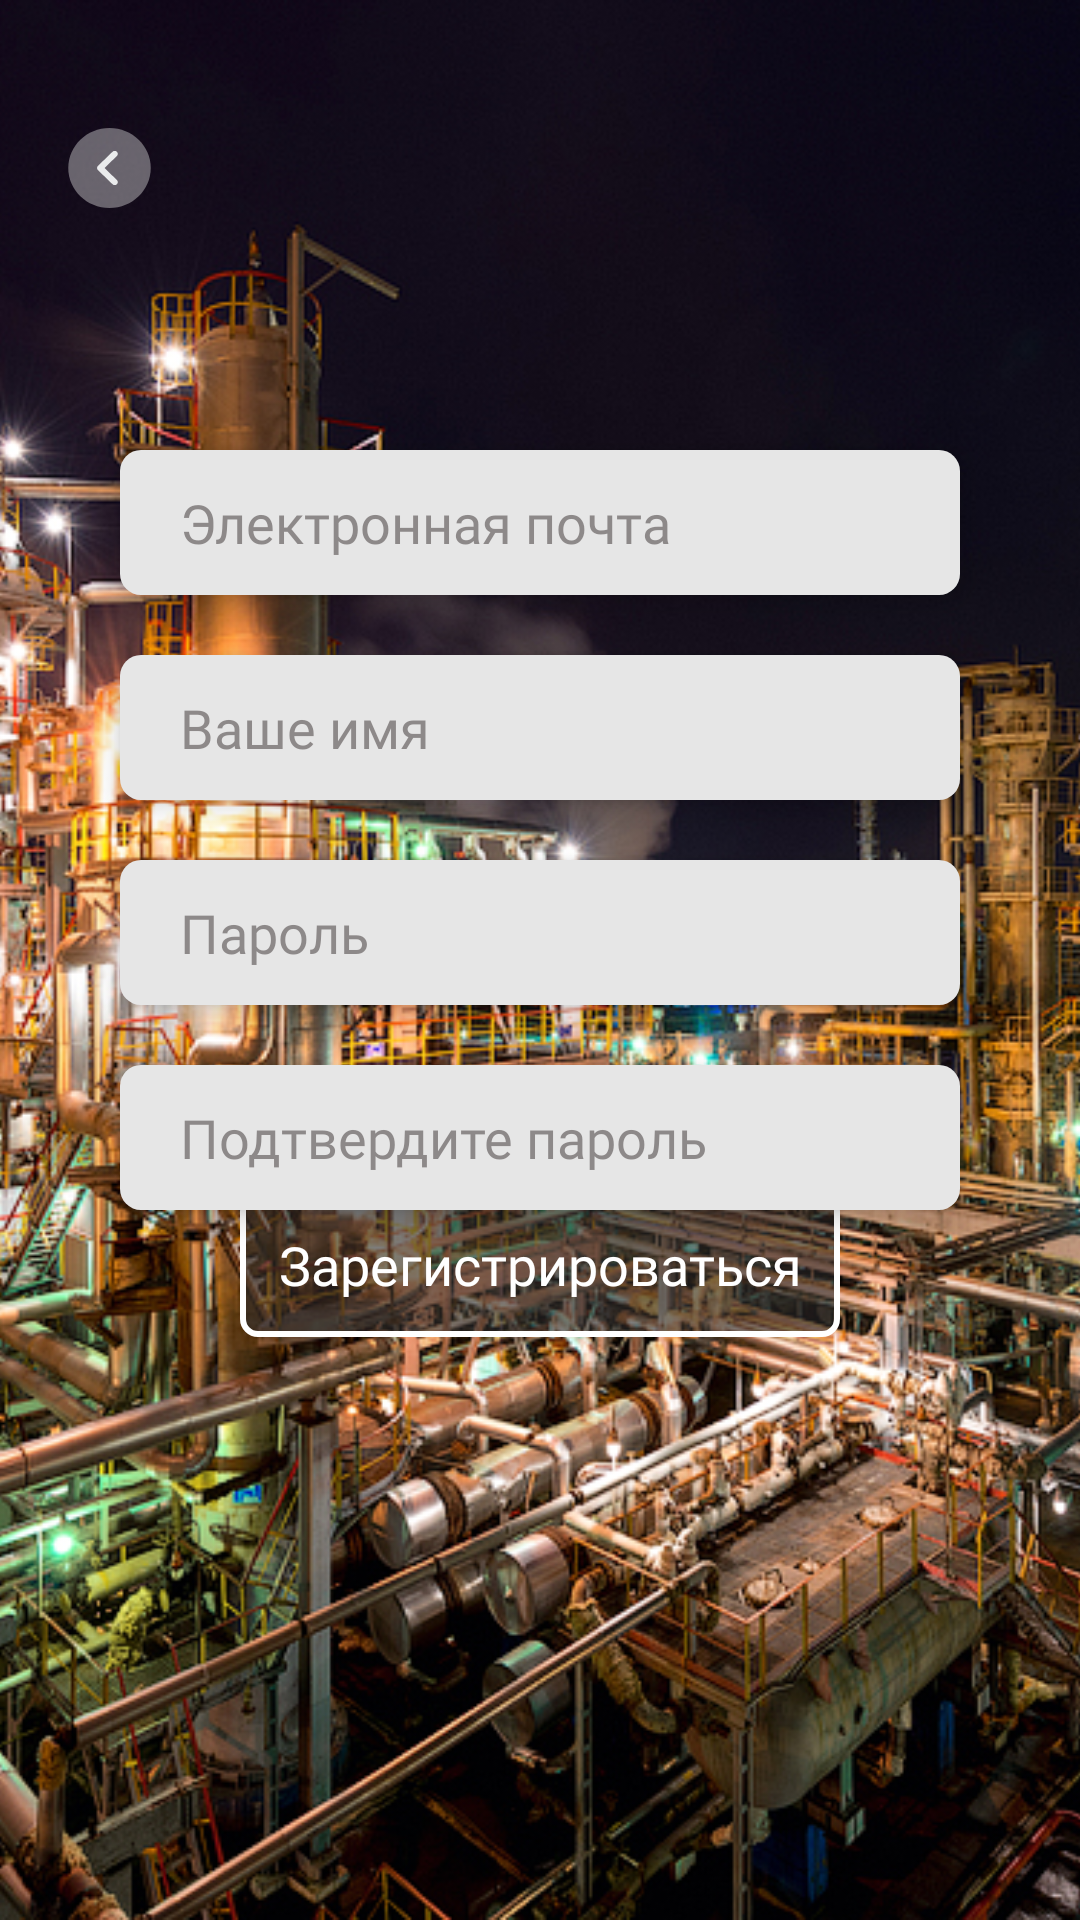

Icons on this 1080x1920 Android screen, each with the point to tap as point (x, y):
back: point (109, 168)
